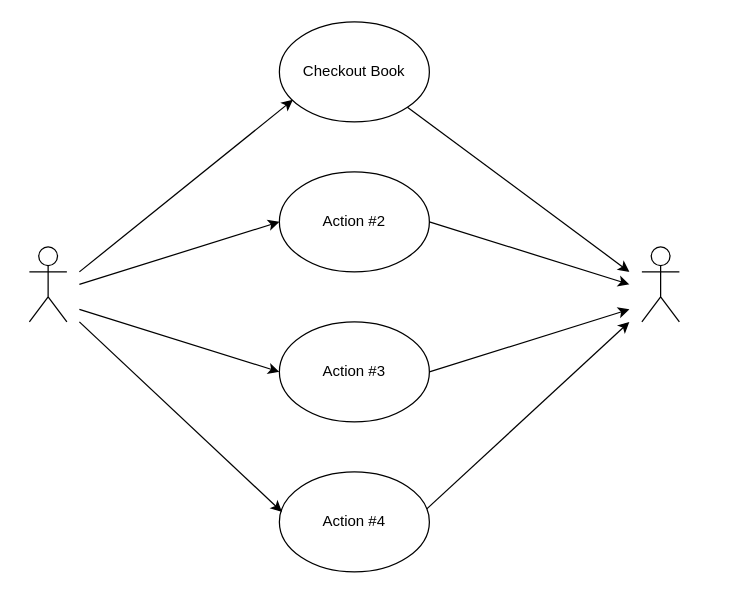
Some shapes in this 733 by 594 pixel diagram are drawn without their labels. The shapes that lost their labels are listed below. From the top down, each one's box as (x1, y1, x2, y2) in pixels, then its label:
(28, 246, 67, 322): librarian
(641, 246, 679, 322): Library System
